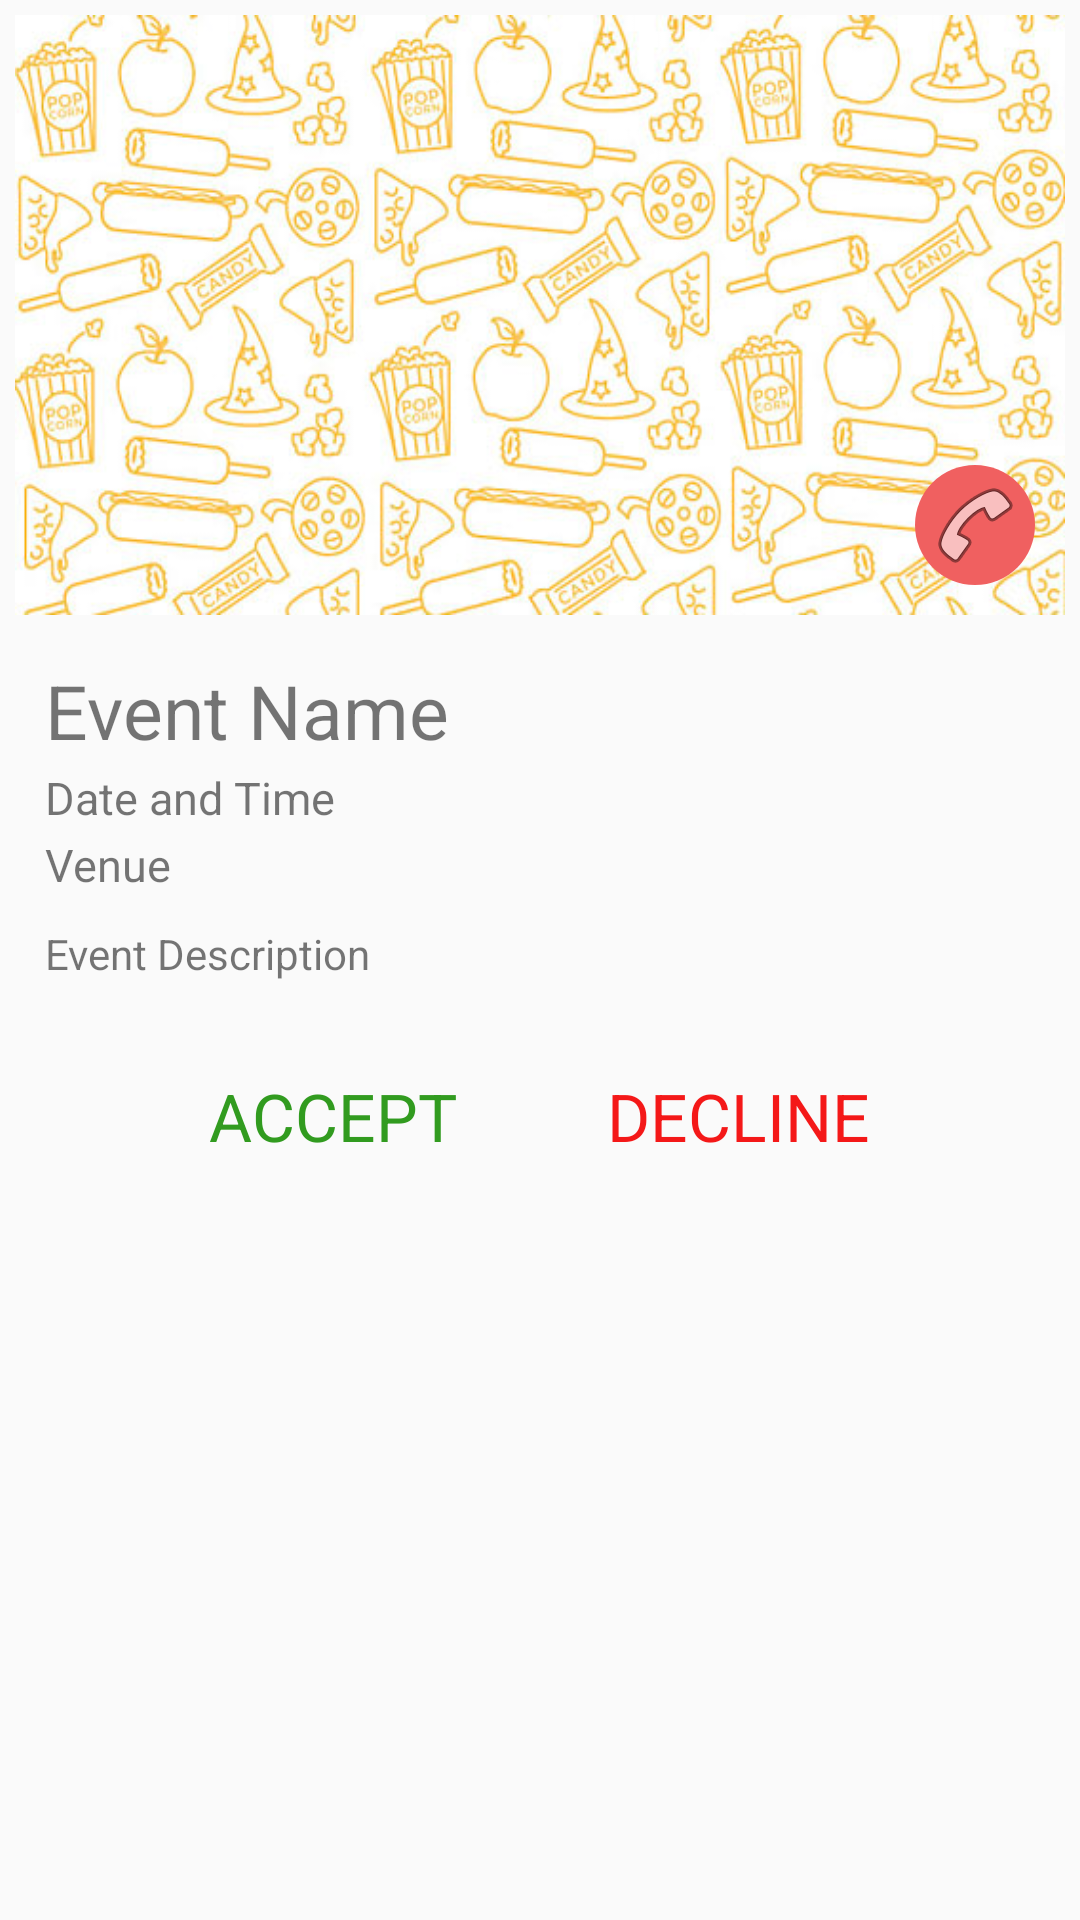

Icons on this 1080px×1920px Android screen, each with the point to tap as (x,y):
call: (975,525)
